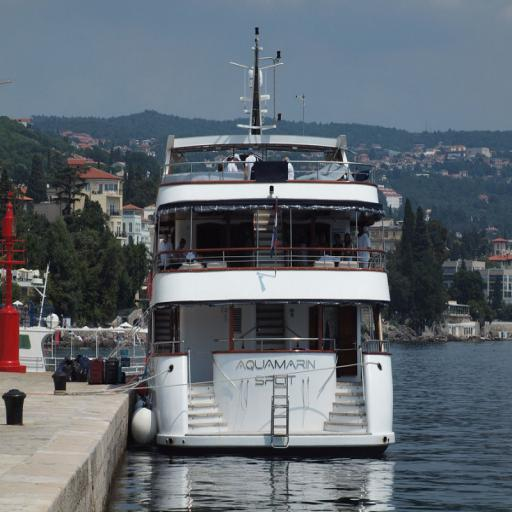cruises: (132, 28, 399, 465)
